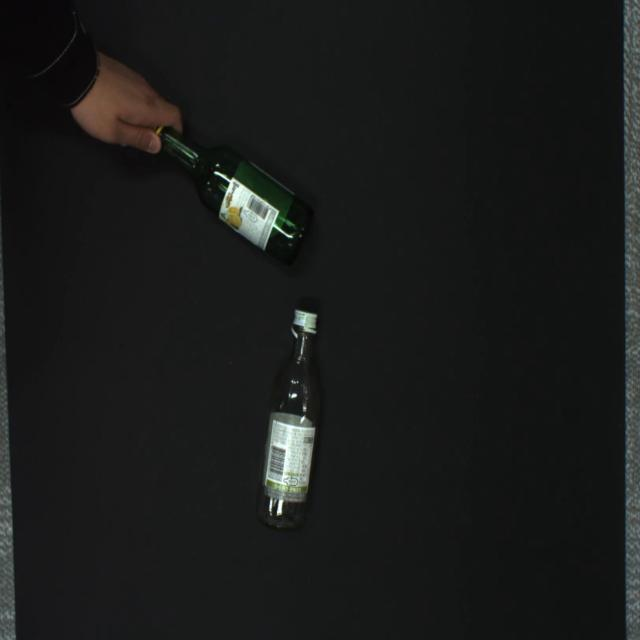soju-bottle: (148, 127, 313, 266), (256, 306, 320, 532)
